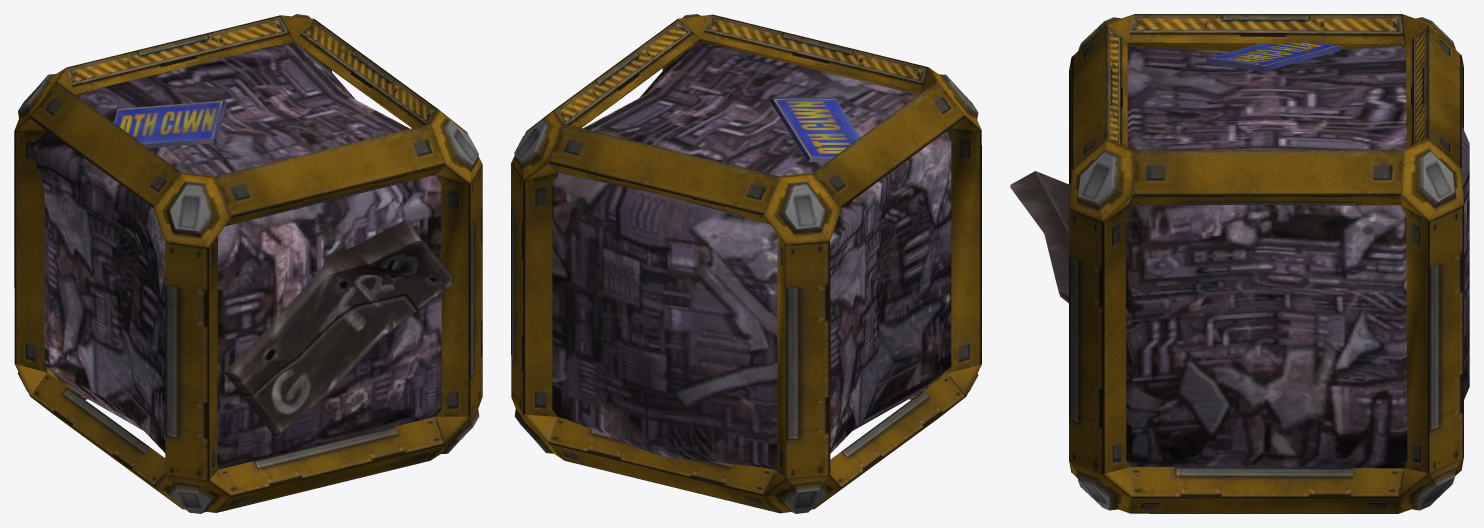
Rendered from scrapcube_00.fbx.
3 renders of one model, left to right at view 1: azimuth 30°, elevation 25°; view 2: azimuth 150°, elevation 25°; view 3: azimuth 270°, elevation 25°, orthographic. The views are drawn at different scales.
Parts seen in each view (by area): view 1: Geoset_0; view 2: Geoset_0; view 3: Geoset_0.
Boxes of the visible parts, x1,y1,x2,y2 form: Geoset_0: (14, 14, 482, 513); Geoset_0: (511, 14, 981, 513); Geoset_0: (1010, 14, 1469, 513).
Size of the model in its own units: 1.33 by 1.36 by 1.54.
Materials: 1 (1 with a texture image).
